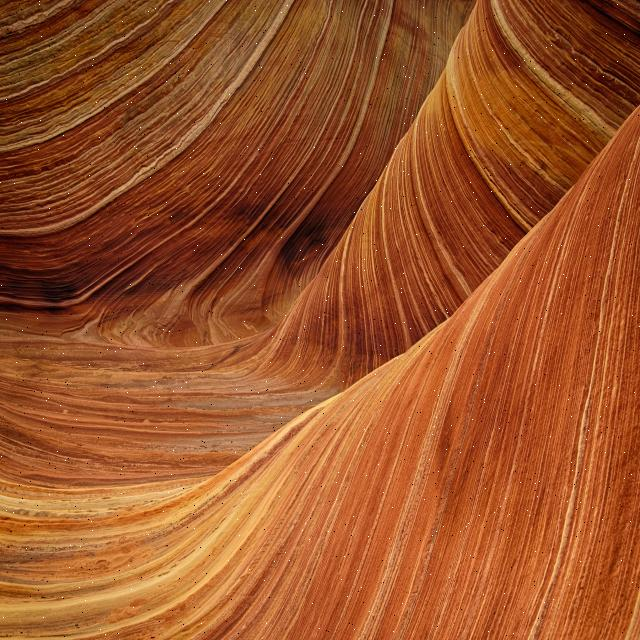Sedimentary: (0, 0, 640, 638)
